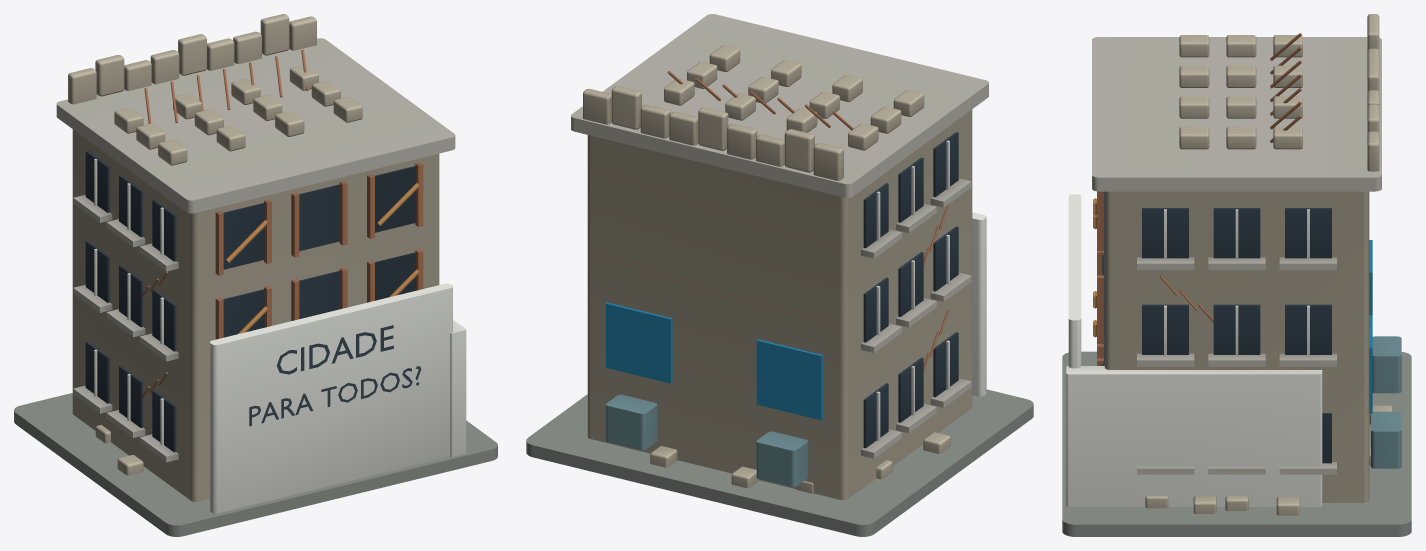
File: ruined-building.glb
3 views of the same model, side by side, from view 1: azimuth 30°, elevation 25°; view 2: azimuth 150°, elevation 25°; view 3: azimuth 270°, elevation 25° (orthographic). The views are drawn at different scales.
Visible parts, largest first — view 1: old building shell, community wall, cracked upper ledge, empty broken window, weathered urban plot, damaged window frame, boarded window; view 2: old building shell, cracked upper ledge, weathered urban plot, empty broken window, rear glazed opening, rear ventilation unit, community wall, damaged window frame; view 3: old building shell, cracked upper ledge, community wall, weathered urban plot, empty broken window, rear ventilation unit, damaged window frame, rear glazed opening.
Boxes of the visible parts, bbox=[...] form: old building shell: bbox=[68, 14, 439, 501]; community wall: bbox=[94, 159, 466, 513]; cracked upper ledge: bbox=[56, 38, 455, 462]; empty broken window: bbox=[85, 151, 421, 452]; weathered urban plot: bbox=[14, 393, 497, 536]; damaged window frame: bbox=[141, 49, 423, 398]; boarded window: bbox=[226, 182, 419, 334]; old building shell: bbox=[583, 45, 972, 500]; cracked upper ledge: bbox=[571, 14, 988, 458]; weathered urban plot: bbox=[526, 389, 1033, 536]; empty broken window: bbox=[863, 132, 958, 448]; rear glazed opening: bbox=[606, 302, 822, 420]; rear ventilation unit: bbox=[606, 394, 808, 486]; community wall: bbox=[876, 140, 986, 440]; damaged window frame: bbox=[667, 71, 948, 371]; old building shell: bbox=[1104, 14, 1392, 515]; cracked upper ledge: bbox=[1092, 37, 1381, 474]; community wall: bbox=[1066, 194, 1322, 506]; weathered urban plot: bbox=[1062, 351, 1411, 536]; empty broken window: bbox=[1102, 191, 1331, 463]; rear ventilation unit: bbox=[1371, 336, 1401, 468]; damaged window frame: bbox=[1097, 33, 1301, 365]; rear glazed opening: bbox=[1369, 240, 1372, 413].
Bounding box in the file's own units: 4.8 × 4.93 × 4.1.
